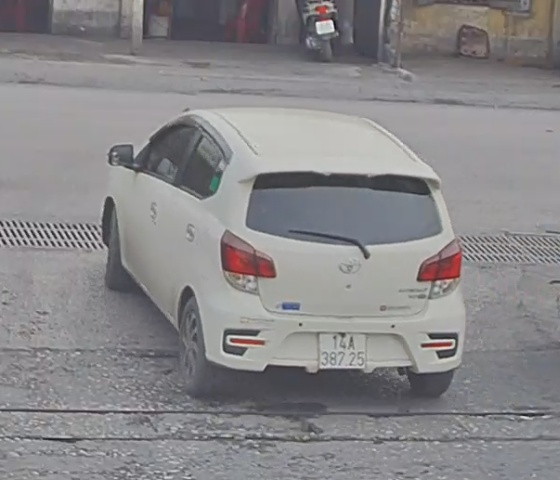vehicle plate: (315, 324, 367, 373)
